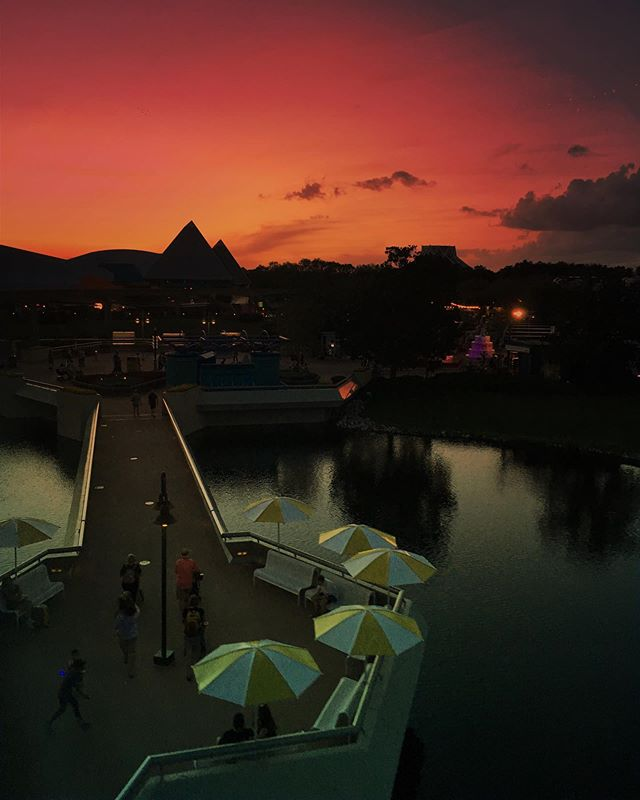river: (215, 421, 640, 800)
sky: (1, 1, 640, 259)
umbrella: (181, 620, 325, 709), (307, 591, 423, 661), (335, 541, 437, 592), (231, 487, 314, 530), (314, 514, 397, 557)
